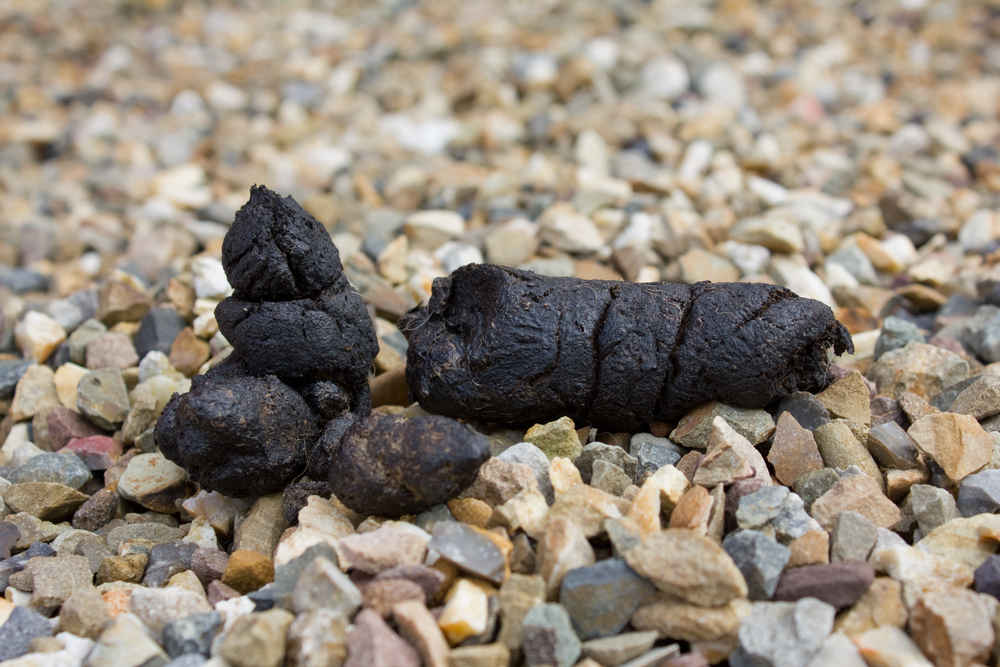Dog: (155, 189, 851, 512)
